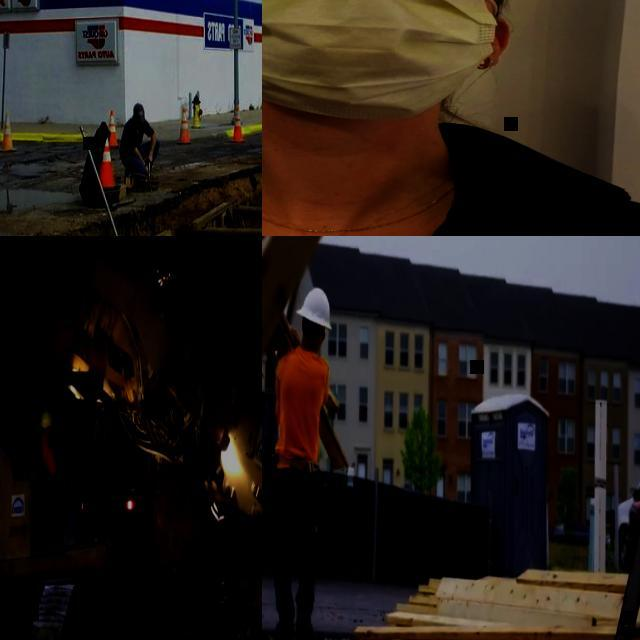helmet: (296, 286, 332, 330), (40, 410, 52, 428)
vest: (40, 436, 56, 474)
